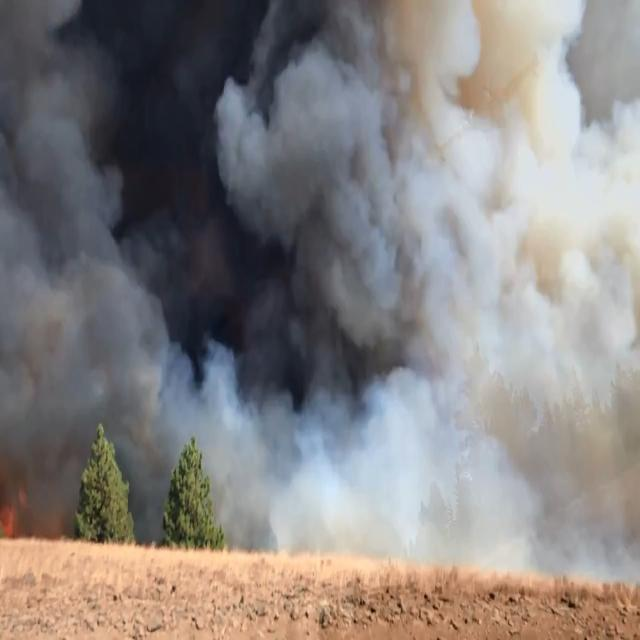Fire: (2, 448, 25, 541)
